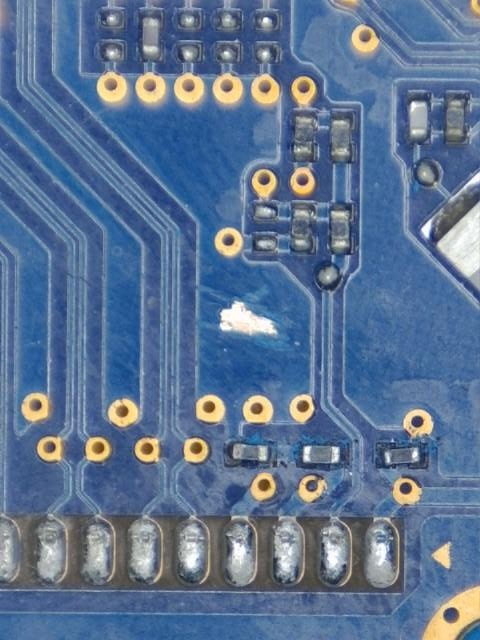pcb_defect: (363, 520, 399, 588), (126, 517, 162, 585), (222, 518, 257, 587), (174, 519, 209, 587), (80, 517, 115, 585), (33, 517, 67, 584), (272, 517, 304, 585), (319, 519, 351, 584), (221, 300, 277, 335), (0, 517, 19, 582)
